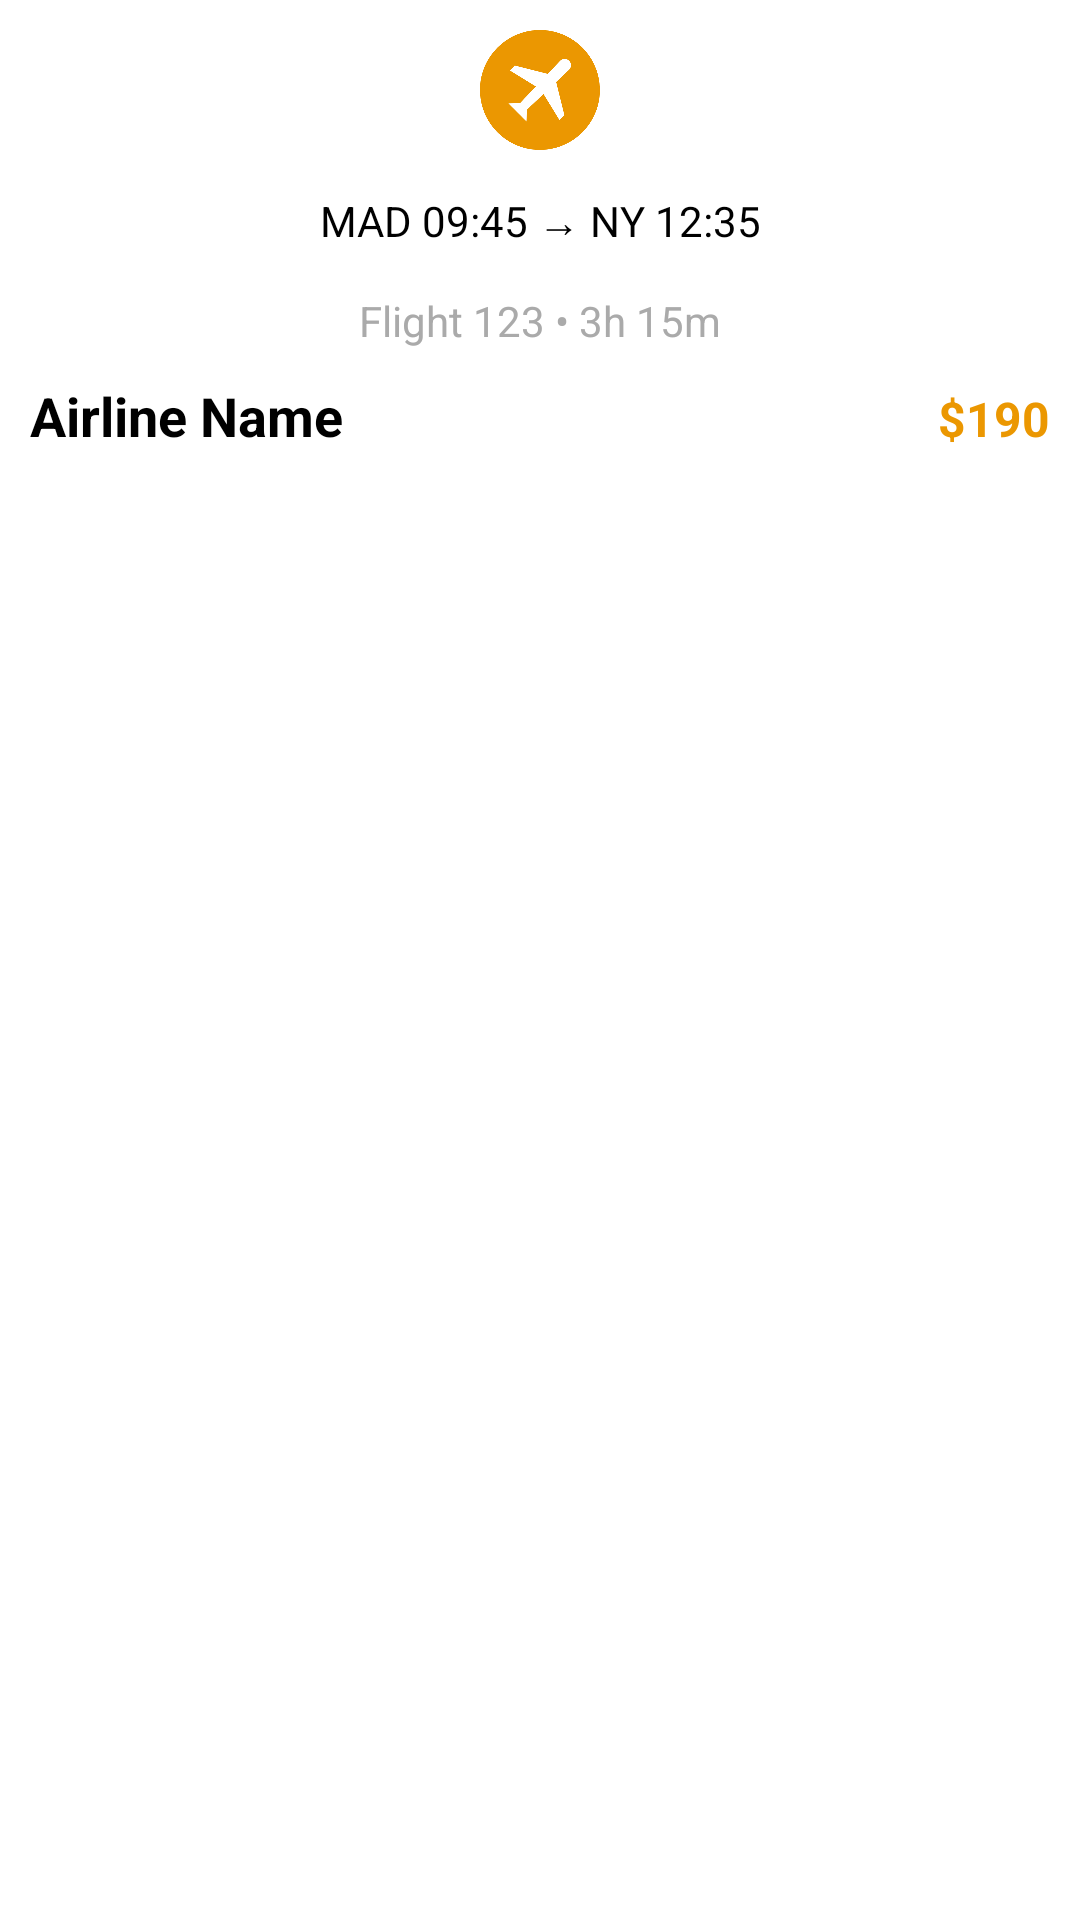

Icon click points for this 1080 × 1920 phone screenshot, format [x,y]:
airplane: [540,90]
